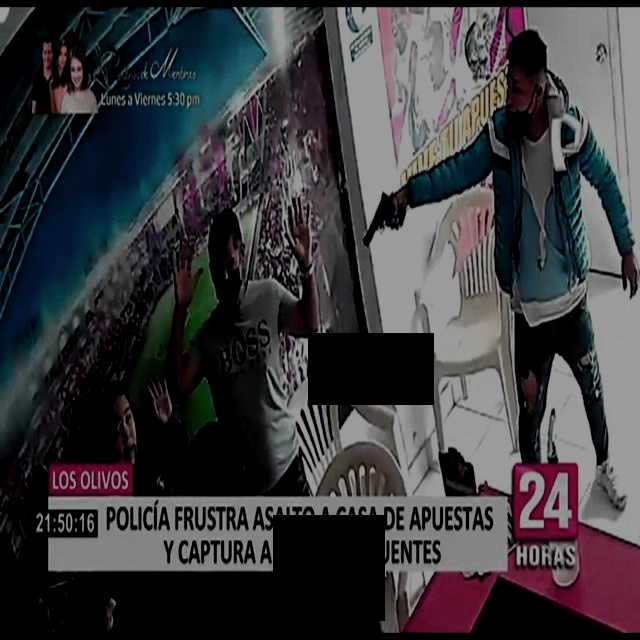gun: (356, 165, 411, 264)
